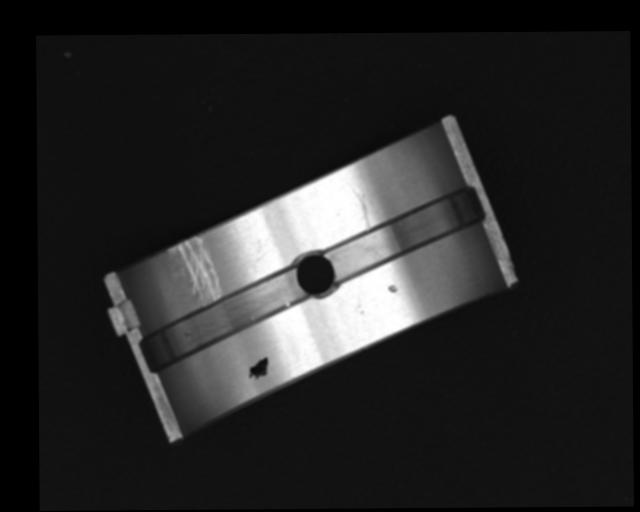blot: (247, 355, 270, 380)
bruise: (388, 285, 398, 293)
gap: (139, 272, 306, 372), (321, 189, 486, 277)
hole: (295, 251, 337, 297)
nick: (351, 185, 371, 230)
scratch: (169, 237, 221, 302)
